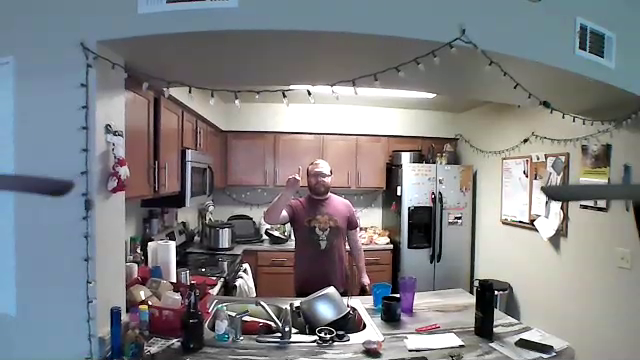up: (284, 164, 306, 192)
